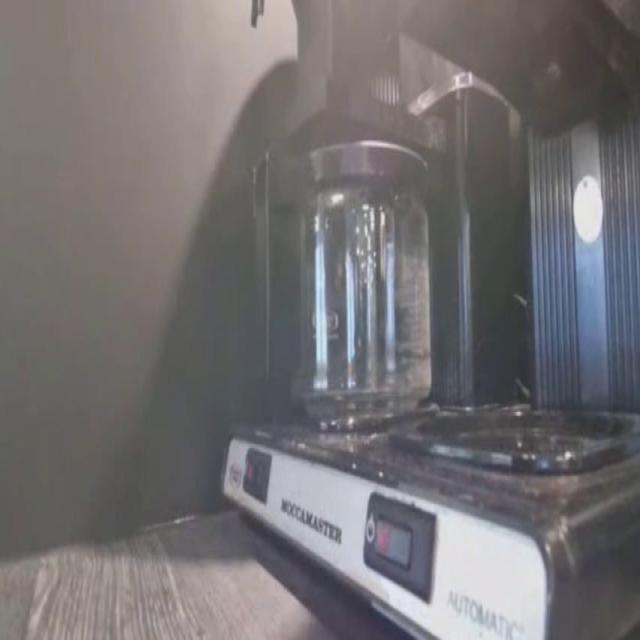nocoffee: (299, 204, 430, 410)
